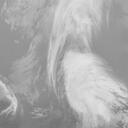cyclone: (34, 35, 107, 99)
